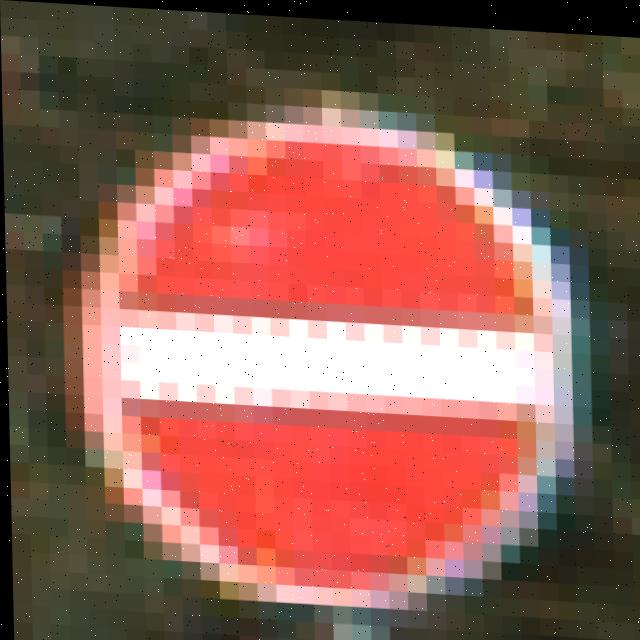road_rough: (95, 54, 600, 622)
